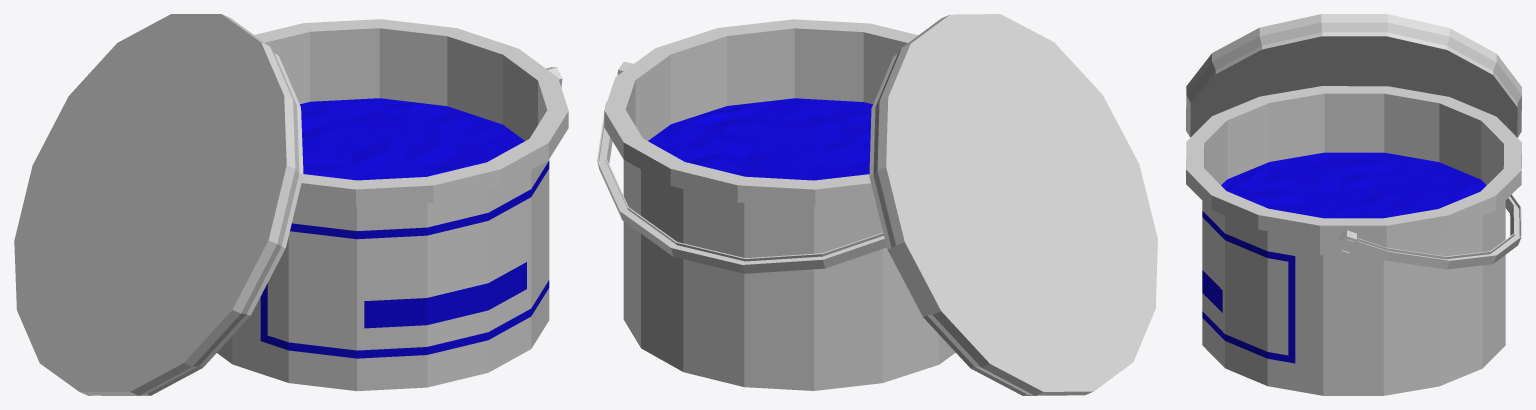
File: SM_A_TIN_OF_PAINT_RED_OPEN.glb
3 views of the same model, side by side, from view 1: azimuth 30°, elevation 25°; view 2: azimuth 150°, elevation 25°; view 3: azimuth 270°, elevation 25° (orthographic). The views are drawn at different scales.
Parts seen in each view (by area): view 1: SM_A_TIN_OF_PAINT_RED_OPEN; view 2: SM_A_TIN_OF_PAINT_RED_OPEN; view 3: SM_A_TIN_OF_PAINT_RED_OPEN.
Part boxes in pixels (x1,y1,x2,y2): SM_A_TIN_OF_PAINT_RED_OPEN: (14,14,568,395); SM_A_TIN_OF_PAINT_RED_OPEN: (597,14,1157,395); SM_A_TIN_OF_PAINT_RED_OPEN: (1186,14,1521,395).
Bounding box in the file's own units: 0.462 × 0.2828 × 0.3227.
